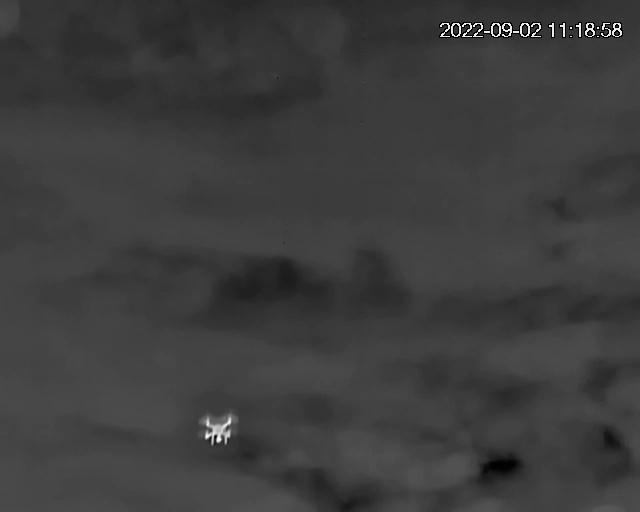DJI-Phantom: (199, 412, 241, 448)
